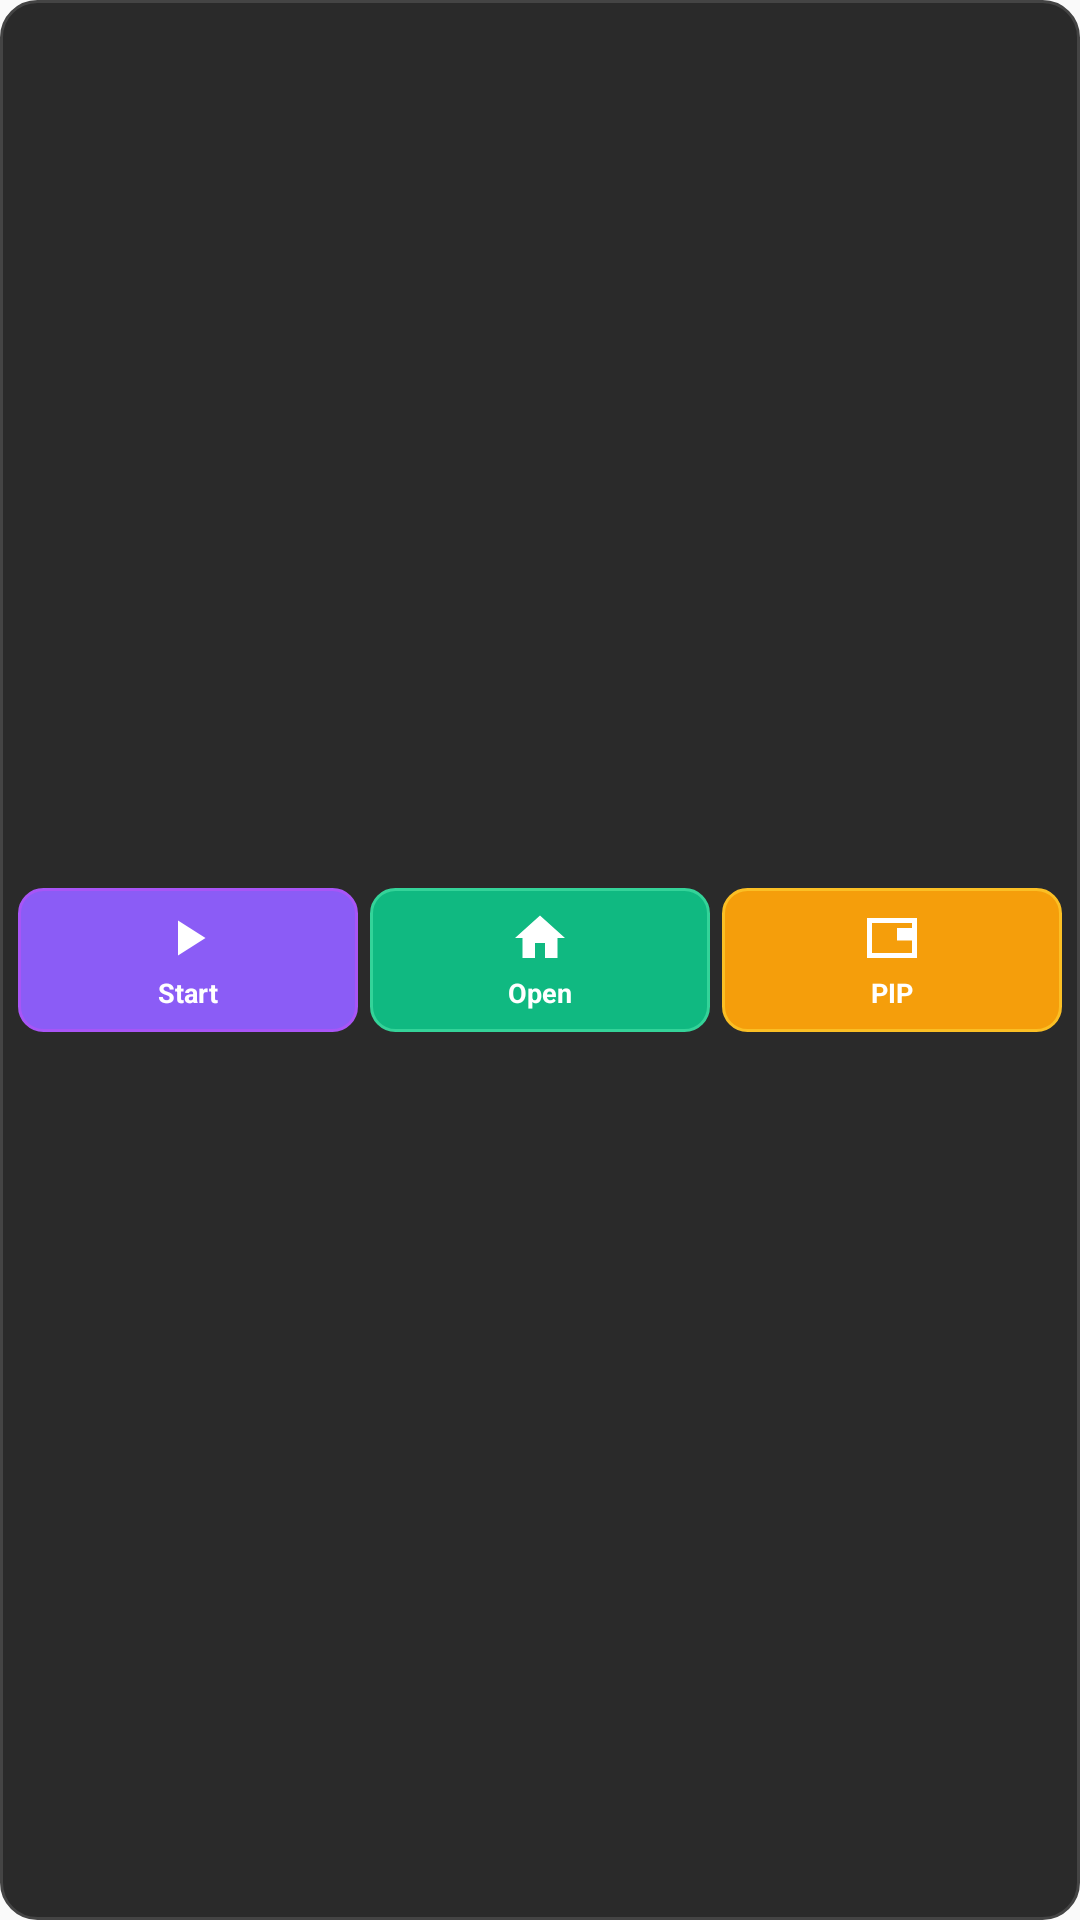

Named icons in this screenshot (1080*1920) and their centers, (x,y):
home: (540,936)
play arrow: (191,938)
